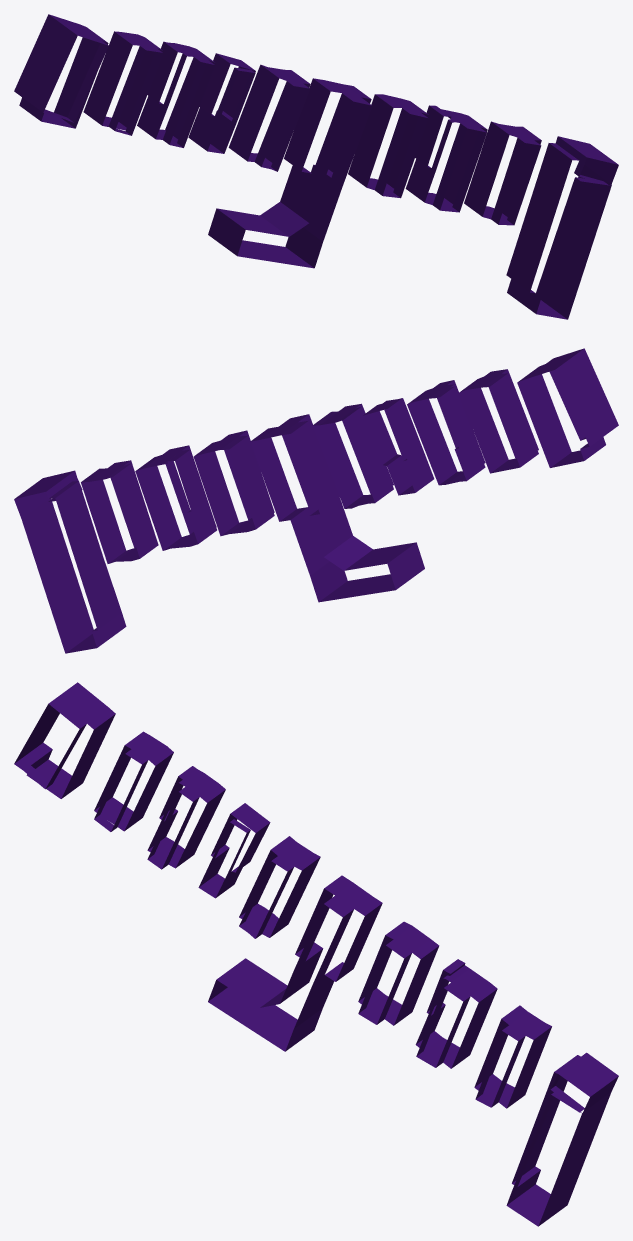
The model's file is Wall_Hini_4.0_Slope_1.5.obj.
3 views of the same model, one above another, from view 1: azimuth 30°, elevation 25°; view 2: azimuth 150°, elevation 25°; view 3: azimuth 330°, elevation 25° (orthographic).
Visible parts, largest first — view 1: 6, 1, 2, 5, 4, 8, 10, 3, 9, 7; view 2: 6, 1, 2, 5, 4, 10, 3, 8, 9, 7; view 3: 6, 1, 2, 5, 4, 3, 8, 9, 10, 7.
Boxes of the visible parts, x1=… form: 6: x1=208, y1=78, x2=372, y2=268; 1: x1=506, y1=136, x2=618, y2=319; 2: x1=14, y1=14, x2=108, y2=128; 5: x1=405, y1=105, x2=487, y2=212; 4: x1=348, y1=94, x2=428, y2=198; 8: x1=228, y1=64, x2=310, y2=171; 10: x1=83, y1=31, x2=163, y2=135; 3: x1=464, y1=121, x2=541, y2=225; 9: x1=137, y1=41, x2=215, y2=147; 7: x1=188, y1=53, x2=255, y2=153; 6: x1=250, y1=414, x2=424, y2=602; 1: x1=14, y1=470, x2=126, y2=653; 2: x1=517, y1=348, x2=618, y2=467; 5: x1=135, y1=445, x2=216, y2=550; 4: x1=193, y1=430, x2=274, y2=536; 10: x1=459, y1=369, x2=538, y2=473; 3: x1=81, y1=460, x2=158, y2=563; 8: x1=312, y1=403, x2=393, y2=508; 9: x1=407, y1=380, x2=485, y2=485; 7: x1=362, y1=398, x2=434, y2=495; 6: x1=208, y1=875, x2=382, y2=1051; 1: x1=506, y1=1052, x2=618, y2=1226; 2: x1=14, y1=682, x2=115, y2=798; 5: x1=415, y1=959, x2=497, y2=1068; 4: x1=358, y1=921, x2=439, y2=1025; 3: x1=474, y1=1005, x2=551, y2=1108; 8: x1=239, y1=836, x2=320, y2=938; 9: x1=147, y1=766, x2=225, y2=869; 10: x1=94, y1=731, x2=173, y2=831; 7: x1=198, y1=803, x2=270, y2=898.
Bounding box in the file's own units: 136 × 91 × 11.99.
